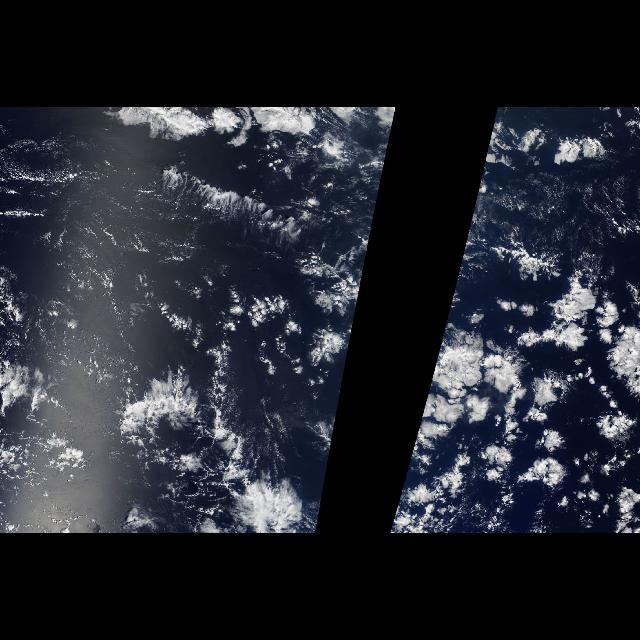Flower: (400, 252, 640, 526), (112, 108, 396, 160)
Sugar: (7, 162, 211, 304)
